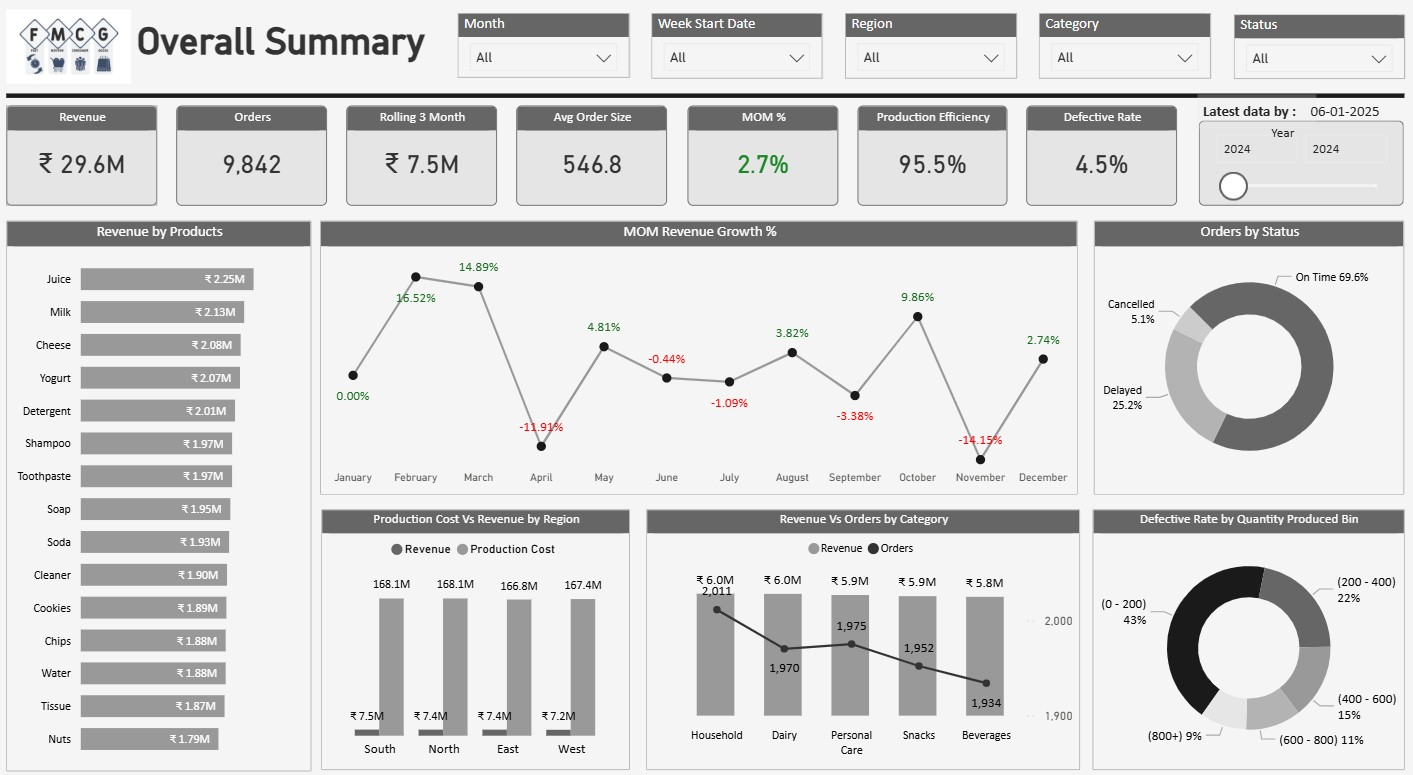

The page's visual inventory and layout, read from the dashboard file:
{"tool":"powerbi","page":{"name":"Summary","canvas":[1280,720],"ordinal":1},"visuals":[{"type":"slicer","fields":{"Values":["Calendar Table.Year"]},"box":[1085.9,119.8,184.6,77],"z":0},{"type":"lineChart","title":"MOM Revenue Growth %","fields":{"Y":["Measure Table.MOM Growth %"],"Category":["Calendar Table.Date.Variation.Date Hierarchy.Year","Calendar Table.Date.Variation.Date Hierarchy.Month","Calendar Table.Date.Variation.Date Hierarchy.Day"]},"box":[293.5,209.1,683.6,247],"z":1000},{"type":"card","title":"Revenue","fields":{"Values":["Measure Table.Total Revenue"]},"box":[10,106.2,136,90],"z":2000},{"type":"card","title":"MOM %","fields":{"Values":["Measure Table.MOM Growth %"]},"box":[624,106.2,136.2,90],"z":3000},{"type":"card","title":"Production Efficiency","fields":{"Values":["Measure Table.Production Efficiency"]},"box":[777.6,106.2,135,90],"z":4000},{"type":"card","title":"Avg Order Size","fields":{"Values":["Measure Table.Avg Order Size"]},"box":[470.4,106.2,136.2,90],"z":5000},{"type":"card","title":"Defective Rate","fields":{"Values":["Measure Table.Defective Rate"]},"box":[929.9,106.2,136.2,90],"z":6000},{"type":"card","title":"Rolling 3 Month","fields":{"Values":["Measure Table.Rolling 3 Month Revenue"]},"box":[316.9,106.2,136.2,90],"z":7000},{"type":"slicer","title":"Month","fields":{"Values":["Calendar Table.Month Name"]},"box":[417,23.1,155,58.7],"z":8000},{"type":"slicer","title":"Week Start Date","fields":{"Values":["Calendar Table.WeekStartDate"]},"box":[592,23.1,154.4,59.2],"z":9000},{"type":"slicer","title":"Status","fields":{"Values":["FMCG_Manufacturing_Data.Status"]},"box":[1116.4,23.2,154.1,58.7],"z":10000},{"type":"slicer","title":"Region","fields":{"Values":["FMCG_Manufacturing_Data.Region"]},"box":[766.4,22.9,155,59.2],"z":11000},{"type":"slicer","title":"Category","fields":{"Values":["FMCG_Manufacturing_Data.Category"]},"box":[941.4,22.9,155,59.2],"z":12000},{"type":"textbox","box":[122.3,23.2,281.3,58.7],"z":13000},{"type":"barChart","title":"Revenue by Products","fields":{"Category":["FMCG_Manufacturing_Data.Product"],"Y":["Measure Table.Total Revenue"]},"box":[9.8,209.1,275.1,496.5],"z":14000},{"type":"clusteredColumnChart","title":"Production Cost Vs Revenue by Region","fields":{"Category":["FMCG_Manufacturing_Data.Region"],"Y":["Measure Table.Total Revenue","Measure Table.Total Production Cost"]},"box":[293.8,470,278.8,235],"z":15000},{"type":"donutChart","title":"Orders by Status","fields":{"Category":["FMCG_Manufacturing_Data.Status"],"Y":["Measure Table.Total Orders"]},"box":[990.5,209.1,280,247],"z":16000},{"type":"lineStackedColumnComboChart","title":"Revenue Vs Orders by Category","fields":{"Y2":["Measure Table.Total Orders"],"Y":["Measure Table.Total Revenue"],"Category":["FMCG_Manufacturing_Data.Category"]},"box":[587.2,470.3,391,235.2],"z":17000},{"type":"shape","box":[9.8,88,1260.7,18.3],"z":18000},{"type":"donutChart","title":"Defective Rate by Quantity Produced Bin","fields":{"Category":["FMCG_Manufacturing_Data.Quantity Produced Bin"],"Y":["Measure Table.Defective Rate"]},"box":[989.7,470.3,281.3,235.2],"z":19000},{"type":"textbox","box":[1083.8,96.2,107.5,31.2],"z":20000},{"type":"card","fields":{"Values":["Measure Table.Latest Date"]},"box":[1178.8,97.8,77,25.7],"z":21000},{"type":"image","box":[10,18.8,112.5,67.5],"z":22000},{"type":"card","title":"Orders","fields":{"Values":["Measure Table.Total Orders"]},"box":[163.3,106.2,136.2,90],"z":23000},{"type":"textbox","box":[1105.2,115.4,111.1,27.4],"z":24000}]}

Visuals, with their boxes in screenshot pixels (x1, y1, x2, y2), scaled from the page's 1280x720 canvas onto the 1413x775 screenshot:
slicer - Calendar Table.Year: crop(1199, 129, 1403, 212)
"MOM Revenue Growth %" lineChart: crop(324, 225, 1079, 491)
"Revenue" card: crop(11, 114, 161, 211)
"MOM %" card: crop(689, 114, 839, 211)
"Production Efficiency" card: crop(858, 114, 1007, 211)
"Avg Order Size" card: crop(519, 114, 670, 211)
"Defective Rate" card: crop(1027, 114, 1177, 211)
"Rolling 3 Month" card: crop(350, 114, 500, 211)
"Month" slicer: crop(460, 25, 631, 88)
"Week Start Date" slicer: crop(654, 25, 824, 89)
"Status" slicer: crop(1232, 25, 1403, 88)
"Region" slicer: crop(846, 25, 1017, 88)
"Category" slicer: crop(1039, 25, 1210, 88)
textbox: crop(135, 25, 446, 88)
"Revenue by Products" barChart: crop(11, 225, 315, 760)
"Production Cost Vs Revenue by Region" clusteredColumnChart: crop(324, 506, 632, 759)
"Orders by Status" donutChart: crop(1093, 225, 1403, 491)
"Revenue Vs Orders by Category" lineStackedColumnComboChart: crop(648, 506, 1080, 759)
shape: crop(11, 95, 1403, 114)
"Defective Rate by Quantity Produced Bin" donutChart: crop(1093, 506, 1403, 759)
textbox: crop(1196, 104, 1315, 137)
card - Measure Table.Latest Date: crop(1301, 105, 1386, 133)
image: crop(11, 20, 135, 93)
"Orders" card: crop(180, 114, 331, 211)
textbox: crop(1220, 124, 1343, 154)
